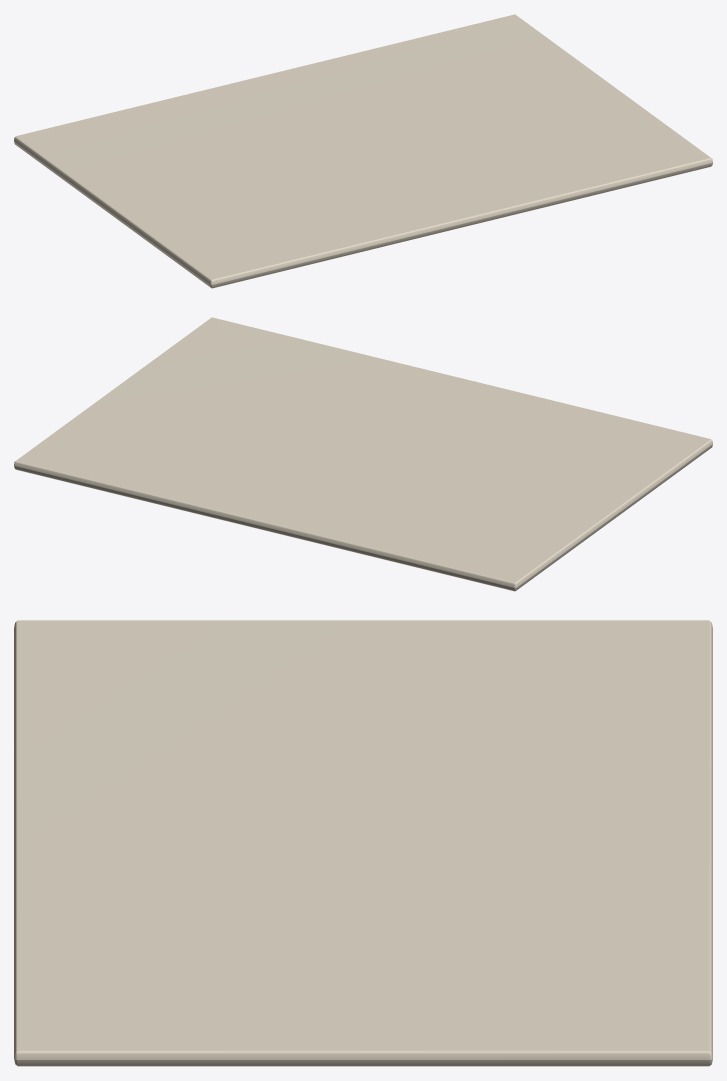
The model's file is ikea_vindebak_rug_80507887.glb.
3 renders of one model, top to bottom at view 1: azimuth 30°, elevation 25°; view 2: azimuth 150°, elevation 25°; view 3: azimuth 270°, elevation 25°, orthographic. The views are drawn at different scales.
Parts seen in each view (by area): view 1: rug; view 2: rug; view 3: rug.
Boxes of the visible parts, x1=… form: rug: x1=14, y1=14, x2=712, y2=288; rug: x1=14, y1=317, x2=712, y2=591; rug: x1=14, y1=620, x2=712, y2=1066.
Bounding box in the file's own units: 1.95 × 0.034 × 1.33.
